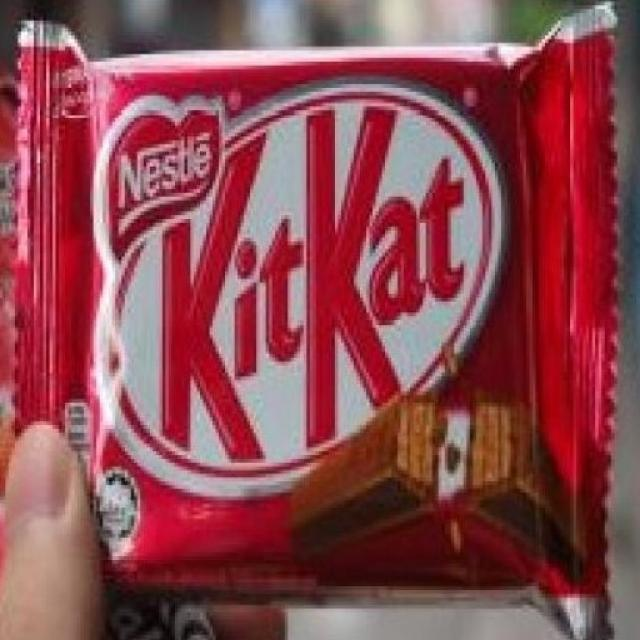Dry Waste: (0, 5, 618, 639)
